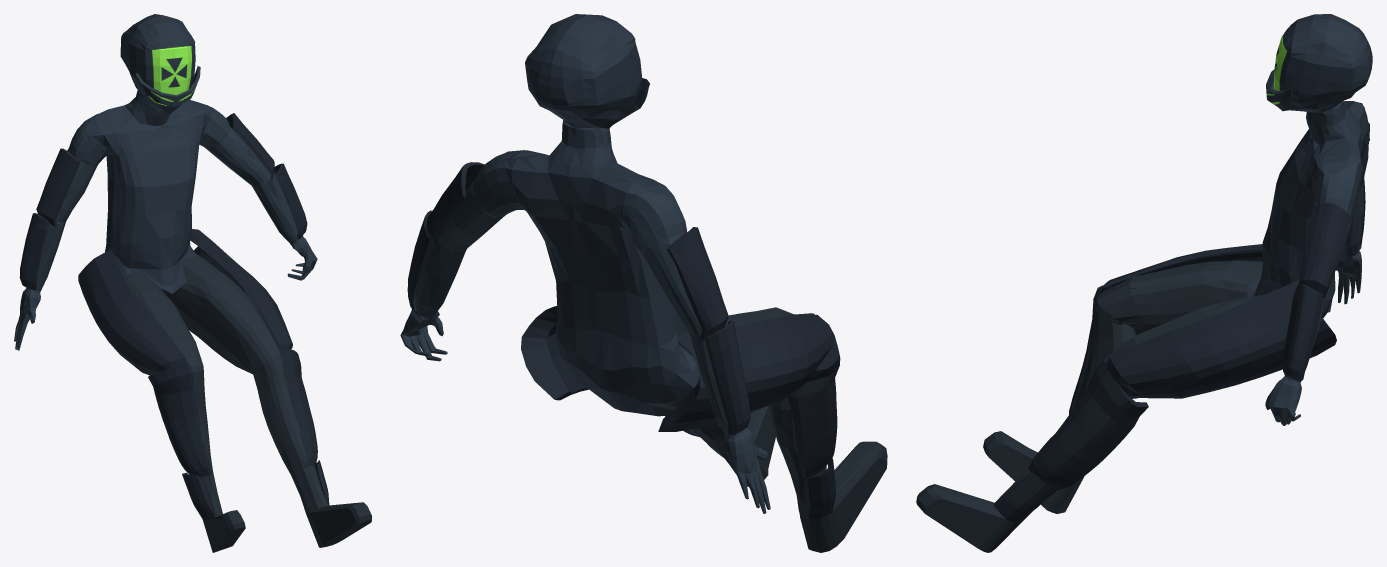
The model's file is Bastion_Die_000004.obj.
3 renders of one model, left to right at view 1: azimuth 30°, elevation 25°; view 2: azimuth 150°, elevation 25°; view 3: azimuth 270°, elevation 25°, orthographic. The views are drawn at different scales.
Visible parts, largest first — view 1: Cube.002; view 2: Cube.002; view 3: Cube.002.
Boxes of the visible parts, <box> form: Cube.002: <box>14,14,371,552</box>; Cube.002: <box>400,14,887,552</box>; Cube.002: <box>916,14,1372,552</box>.
Bounding box in the file's own units: 2.01 × 3.05 × 2.4.
